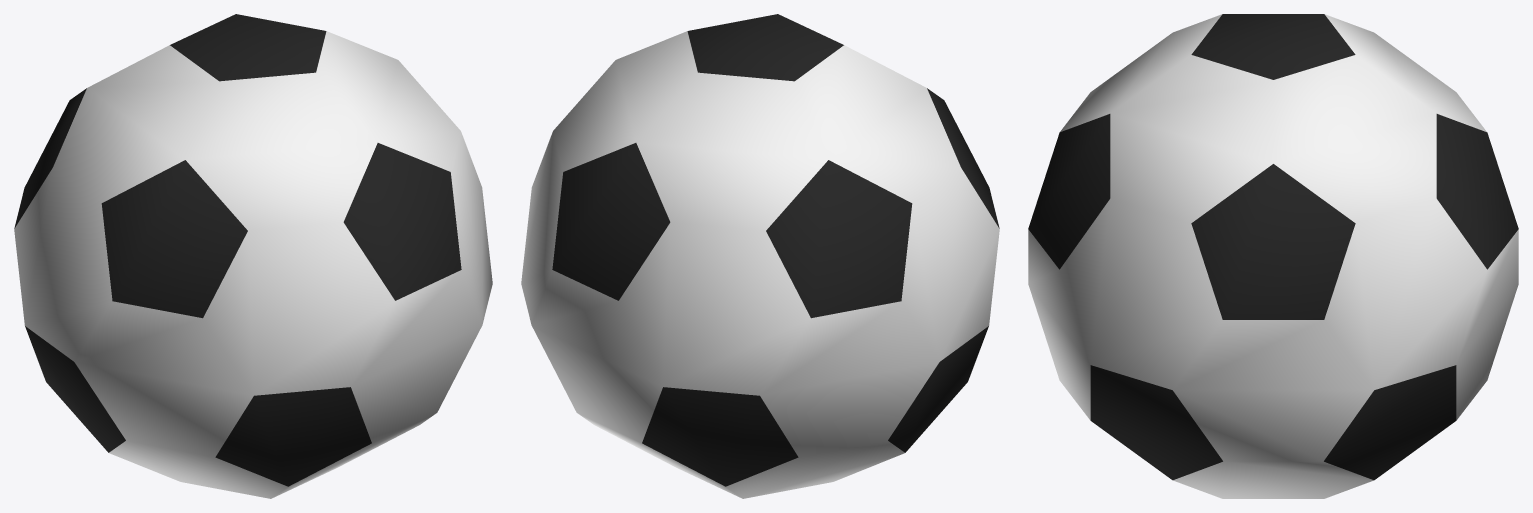
3 renders of one model, left to right at view 1: azimuth 30°, elevation 25°; view 2: azimuth 150°, elevation 25°; view 3: azimuth 270°, elevation 25°, orthographic. The views are drawn at different scales.
Parts seen in each view (by area): view 1: 2, default; view 2: 2, default; view 3: 2, default.
Part boxes in pixels (box(x1,y1,x2,y2)): 2: box(14, 31, 492, 498); default: box(14, 14, 461, 486); 2: box(521, 31, 999, 498); default: box(552, 14, 999, 486); 2: box(1028, 14, 1518, 498); default: box(1028, 14, 1518, 480).
Size of the model in its own units: 8.37 by 8.15 by 8.51.
2 materials, 2 textured.
